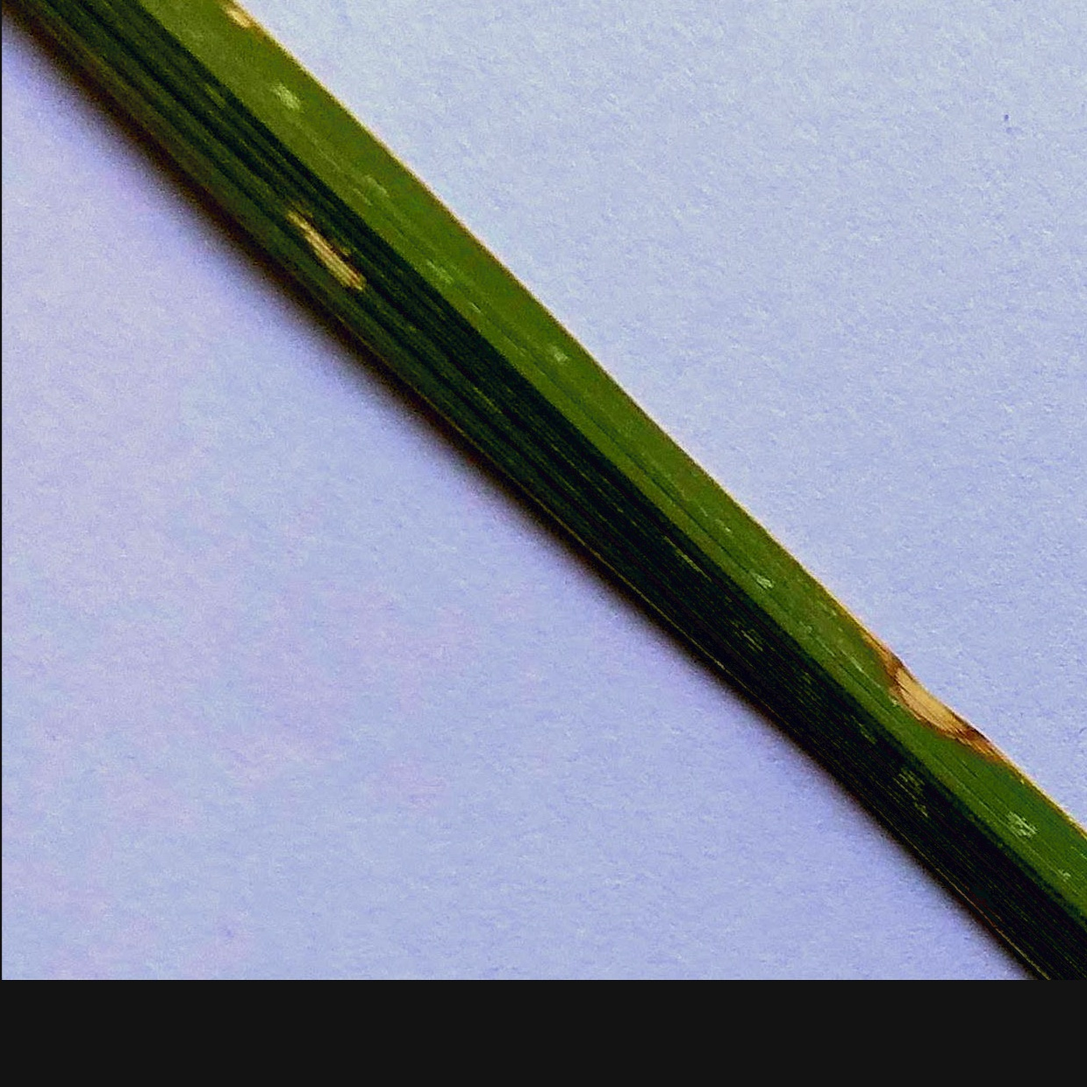Brown_Spot: (863, 623, 1001, 748), (271, 177, 387, 303)
